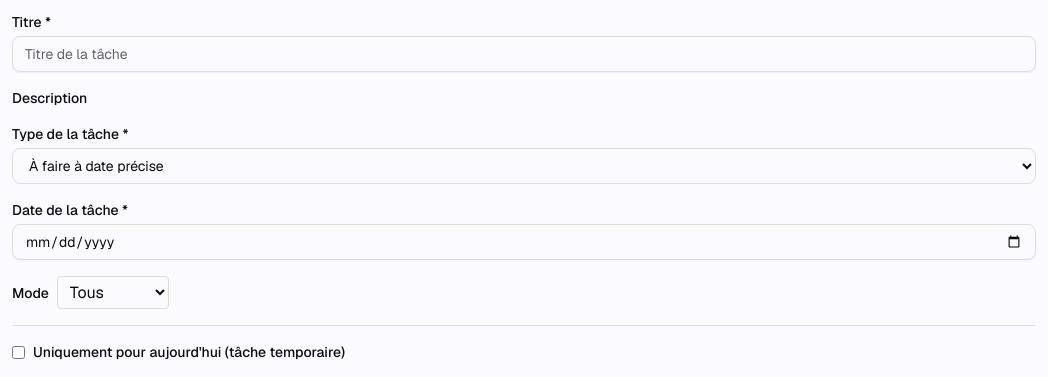
Scenario: TaskForm › should render periodic task fields when type is periodic
Select "Périodique" in the dropdown labelled "Type de la tâche *" at (524, 166), box [12, 148, 1036, 184]
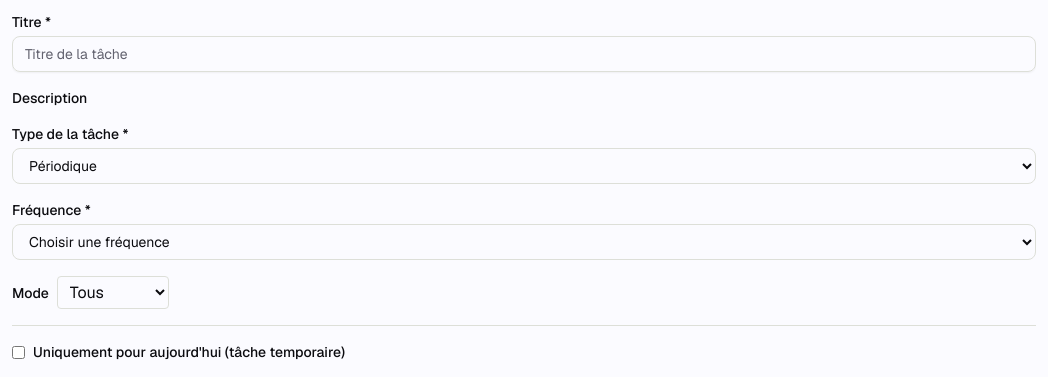
Check: the dropdown labelled "Fréquence *" is shown, box [12, 224, 1036, 260]
Check: the label labelled "Date de la tâche" is gone
